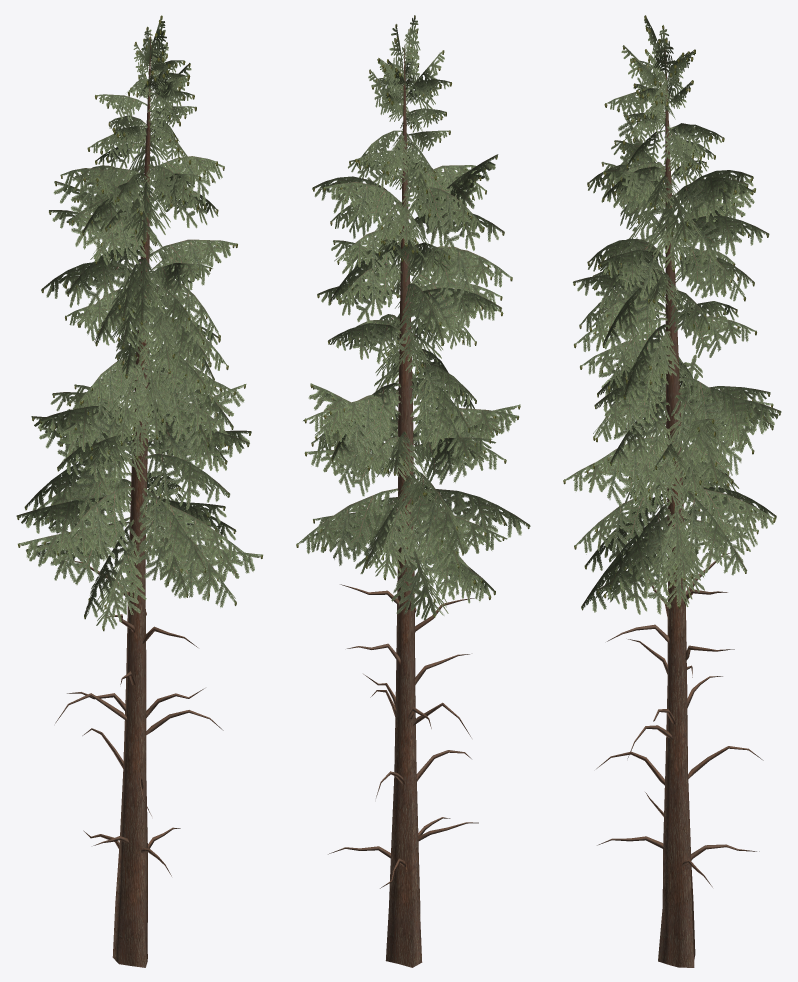
Rendered from Sequoia_Sempervirens_Spring_Adult.glb.
3 views of the same model, side by side, from view 1: azimuth 30°, elevation 25°; view 2: azimuth 150°, elevation 25°; view 3: azimuth 270°, elevation 25° (orthographic). The views are drawn at different scales.
Visible parts, largest first — view 1: Sequoia_Sempervirens_Spring_Adult__LOD3; view 2: Sequoia_Sempervirens_Spring_Adult__LOD3; view 3: Sequoia_Sempervirens_Spring_Adult__LOD3.
Part boxes in pixels (box(x1,y1,x2,y2)): Sequoia_Sempervirens_Spring_Adult__LOD3: box(16, 15, 263, 967); Sequoia_Sempervirens_Spring_Adult__LOD3: box(296, 15, 530, 967); Sequoia_Sempervirens_Spring_Adult__LOD3: box(563, 15, 781, 967).
Bounding box in the file's own units: 17.95 × 75.1 × 15.94.
3 materials, 3 textured.
